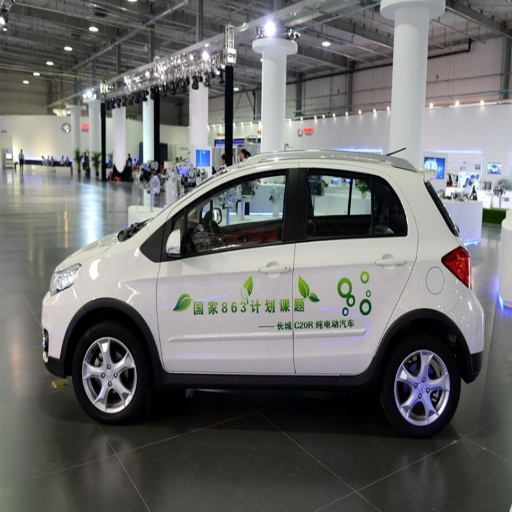back_bumper: (455, 298, 486, 355)
back_left_door: (295, 163, 415, 374)
front_left_door: (157, 163, 298, 370)
